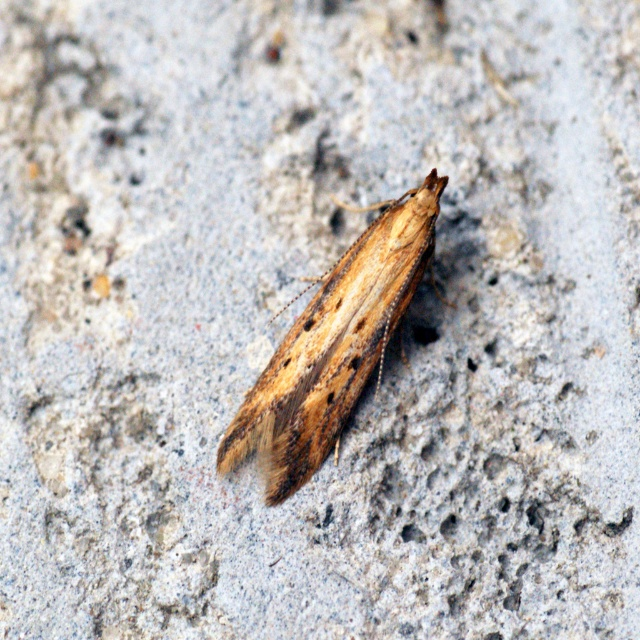Moths and butterflies: (213, 161, 466, 508)
